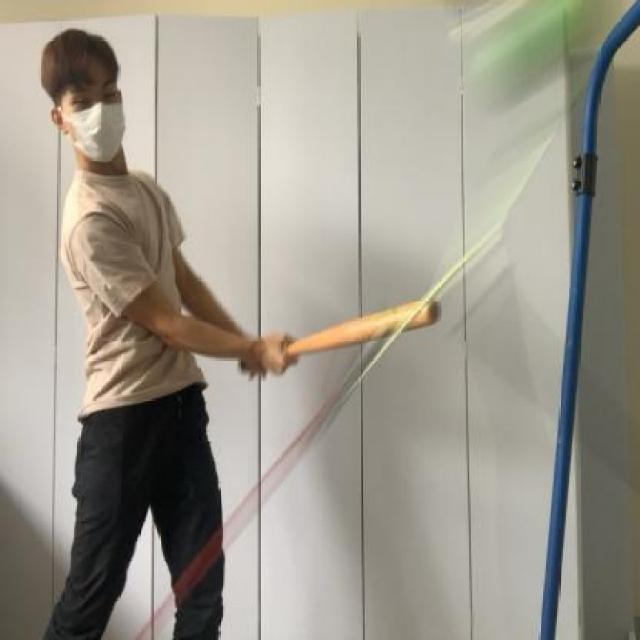baseball: (460, 0, 608, 95)
